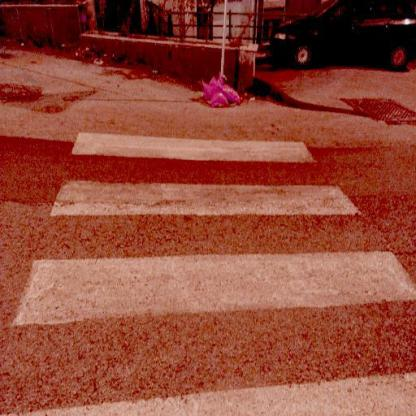crosswalk: (41, 127, 369, 231)
